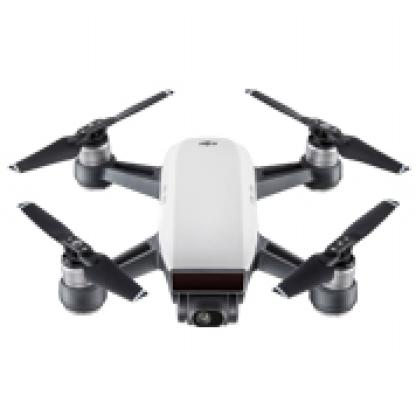drone: (9, 91, 414, 327)
